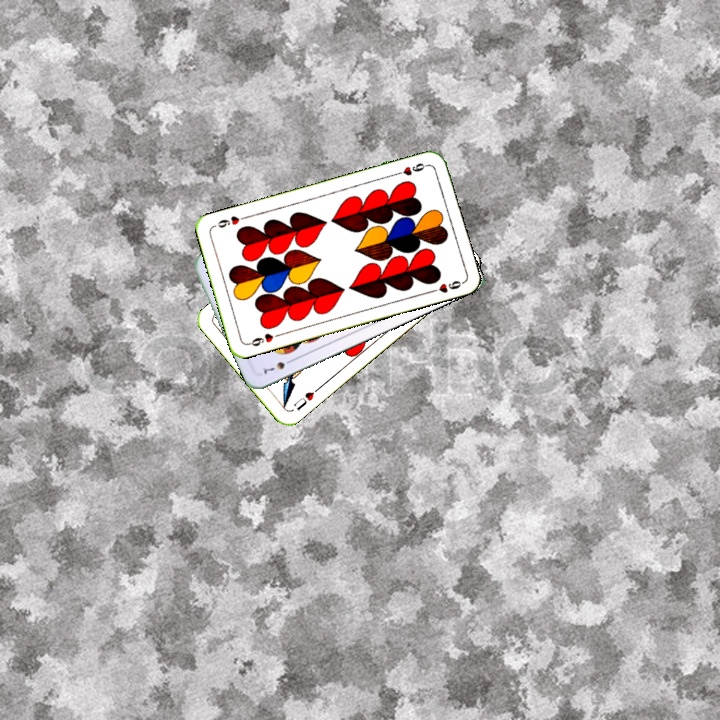H9: (244, 329, 283, 349), (391, 159, 431, 178)
HU: (289, 383, 322, 414)
S7: (258, 355, 296, 377)
